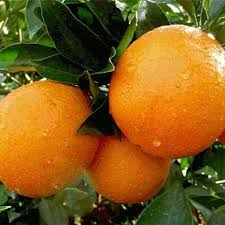orange: (98, 23, 225, 162), (1, 76, 106, 205), (81, 105, 178, 212)
